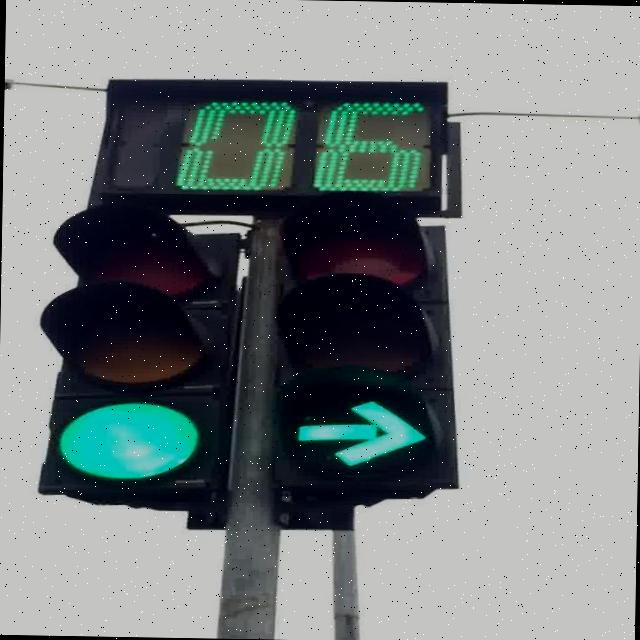green_light: (34, 202, 236, 497), (267, 190, 462, 492)
